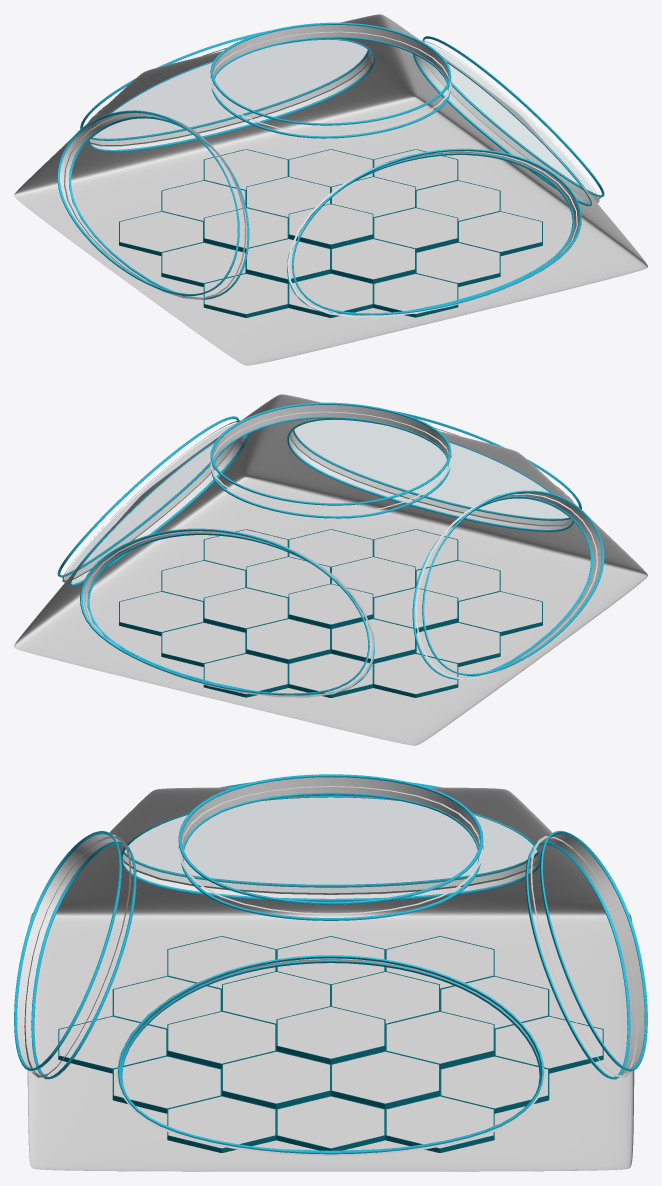
Rendered from garage_done.glb.
3 views of the same model, one above another, from view 1: azimuth 30°, elevation 25°; view 2: azimuth 150°, elevation 25°; view 3: azimuth 270°, elevation 25° (orthographic). The views are drawn at different scales.
Parts seen in each view (by area): view 1: Garage_F_Structure, Garage_F_Stage, Garage_F_Glass, Garage_F_Borders; view 2: Garage_F_Structure, Garage_F_Stage, Garage_F_Glass, Garage_F_Borders; view 3: Garage_F_Structure, Garage_F_Stage, Garage_F_Glass, Garage_F_Borders.
Part boxes in pixels (bbox=[...]): Garage_F_Structure: bbox=[14, 14, 647, 365]; Garage_F_Stage: bbox=[119, 149, 542, 317]; Garage_F_Glass: bbox=[90, 40, 596, 200]; Garage_F_Borders: bbox=[57, 22, 604, 315]; Garage_F_Structure: bbox=[14, 394, 647, 745]; Garage_F_Stage: bbox=[119, 529, 542, 697]; Garage_F_Glass: bbox=[65, 420, 571, 580]; Garage_F_Borders: bbox=[57, 402, 604, 695]; Garage_F_Structure: bbox=[17, 777, 644, 1171]; Garage_F_Stage: bbox=[58, 936, 603, 1152]; Garage_F_Glass: bbox=[123, 797, 538, 893]; Garage_F_Borders: bbox=[14, 774, 647, 1154].
Size of the model in its own units: 3072 by 1119 by 3072.
